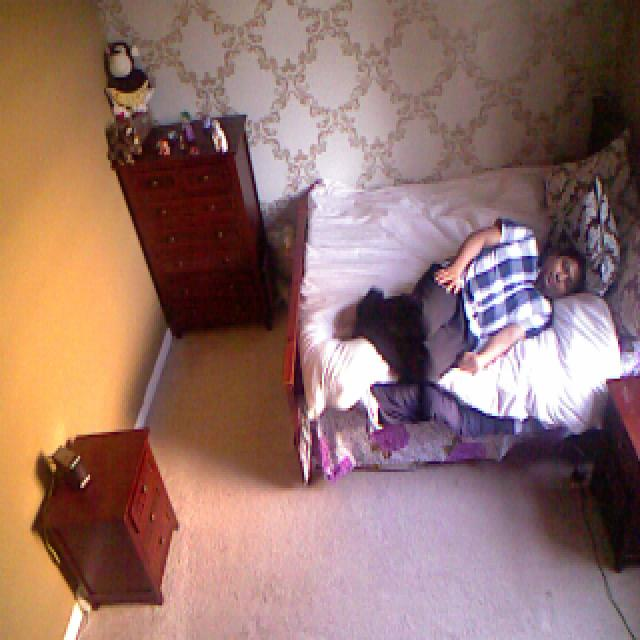lying: (333, 216, 586, 381)
